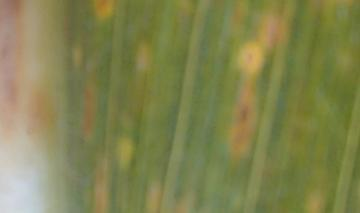tarspot: (241, 108, 249, 125)
